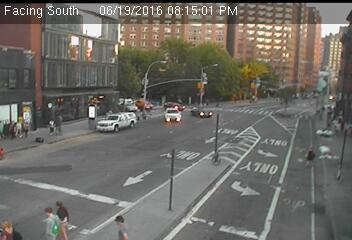neg: (237, 195, 253, 217), (304, 192, 320, 213), (189, 142, 203, 161), (322, 107, 336, 126), (11, 37, 25, 55), (265, 195, 279, 213), (150, 135, 163, 153), (214, 40, 227, 57), (152, 183, 165, 200), (176, 193, 189, 210), (226, 137, 238, 154), (248, 112, 260, 128), (269, 58, 280, 73), (178, 33, 189, 47), (213, 3, 224, 17), (331, 58, 342, 72), (250, 161, 261, 175), (206, 198, 217, 212), (121, 171, 131, 186), (95, 13, 105, 27), (303, 44, 313, 58), (88, 155, 98, 168), (157, 73, 167, 85), (168, 111, 177, 124), (112, 146, 121, 159), (263, 29, 272, 41), (53, 22, 62, 34), (45, 44, 53, 55), (323, 84, 331, 95), (70, 137, 78, 148), (103, 122, 111, 133), (120, 68, 128, 78), (78, 65, 86, 75), (227, 176, 235, 186), (147, 10, 154, 19), (199, 109, 206, 117), (282, 109, 288, 117)
pos: (51, 199, 76, 232), (39, 202, 63, 234), (110, 211, 130, 238), (301, 145, 318, 167), (44, 116, 59, 136)
